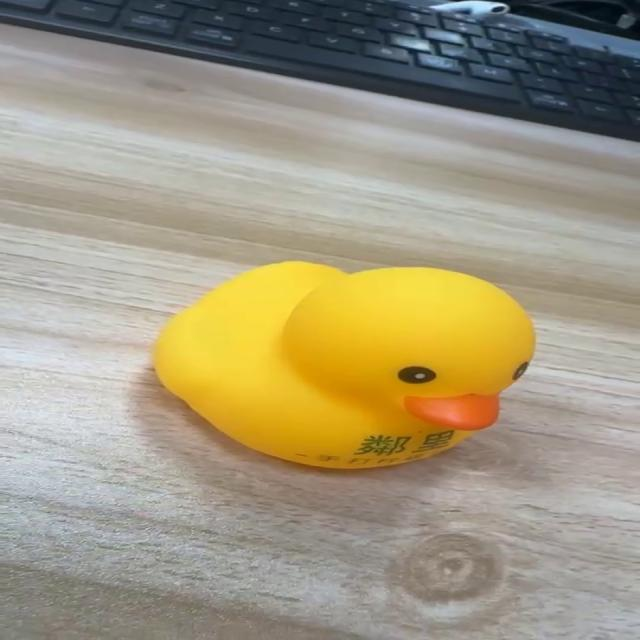yellow_duck: (150, 259, 537, 470)
